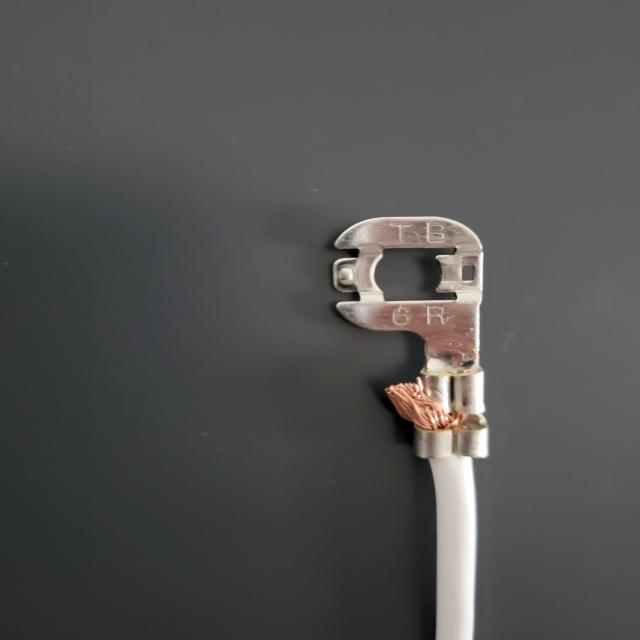defect: (344, 334, 556, 504)
